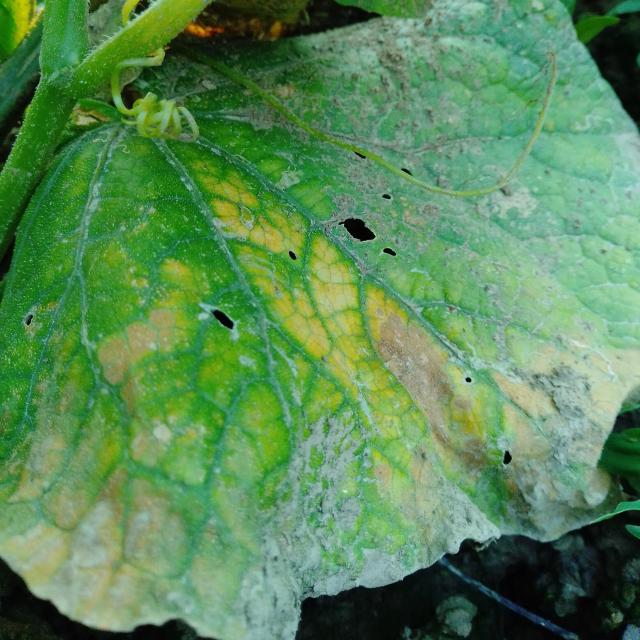cucumber_downy: (14, 135, 640, 615)
